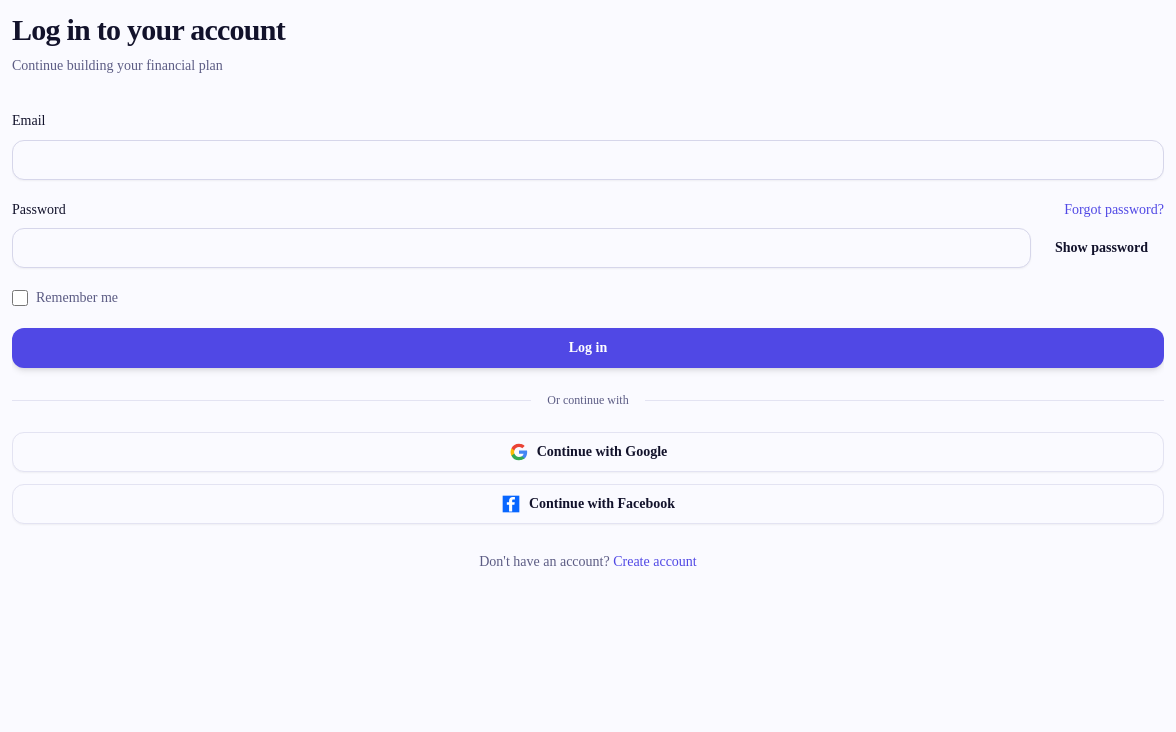
Test: login form › shows a translated credential error returned by NextAuth
Type "owner@example.com" into the field labelled "Email". click: {"x": 588, "y": 160}
box: [12,140,1164,180]
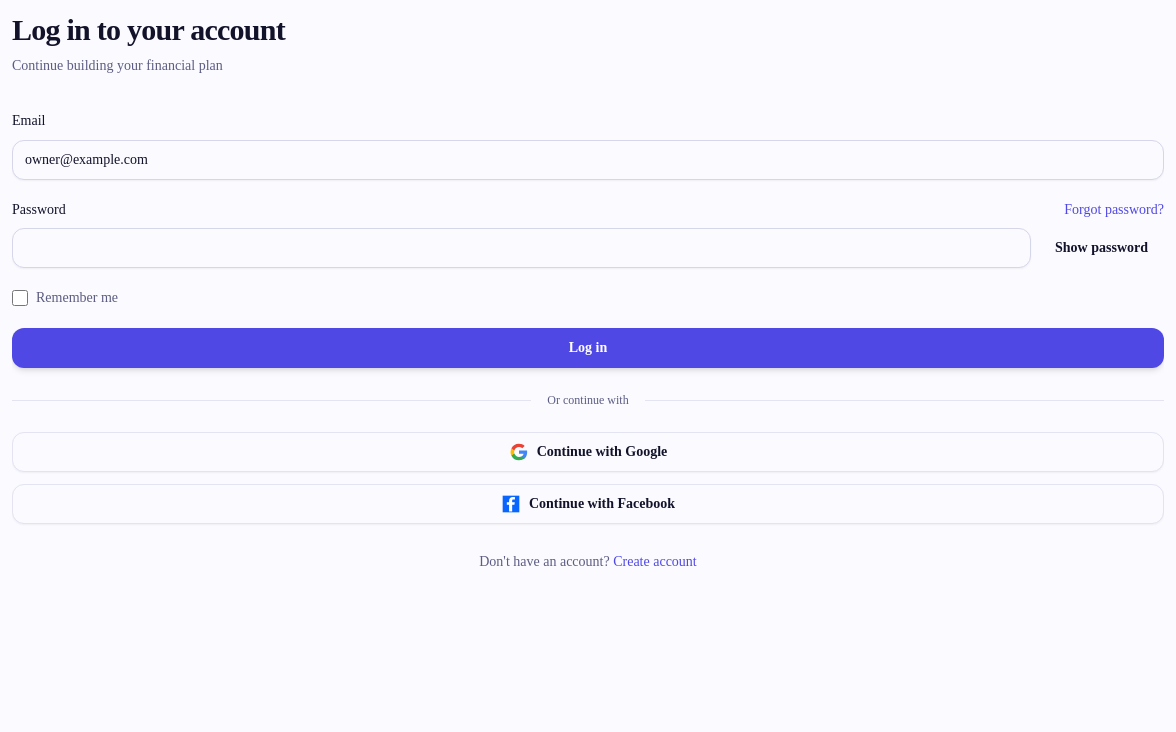
Type "wrong-password" into the password field labelled "Password". click: {"x": 522, "y": 248}
box: [12,228,1031,268]
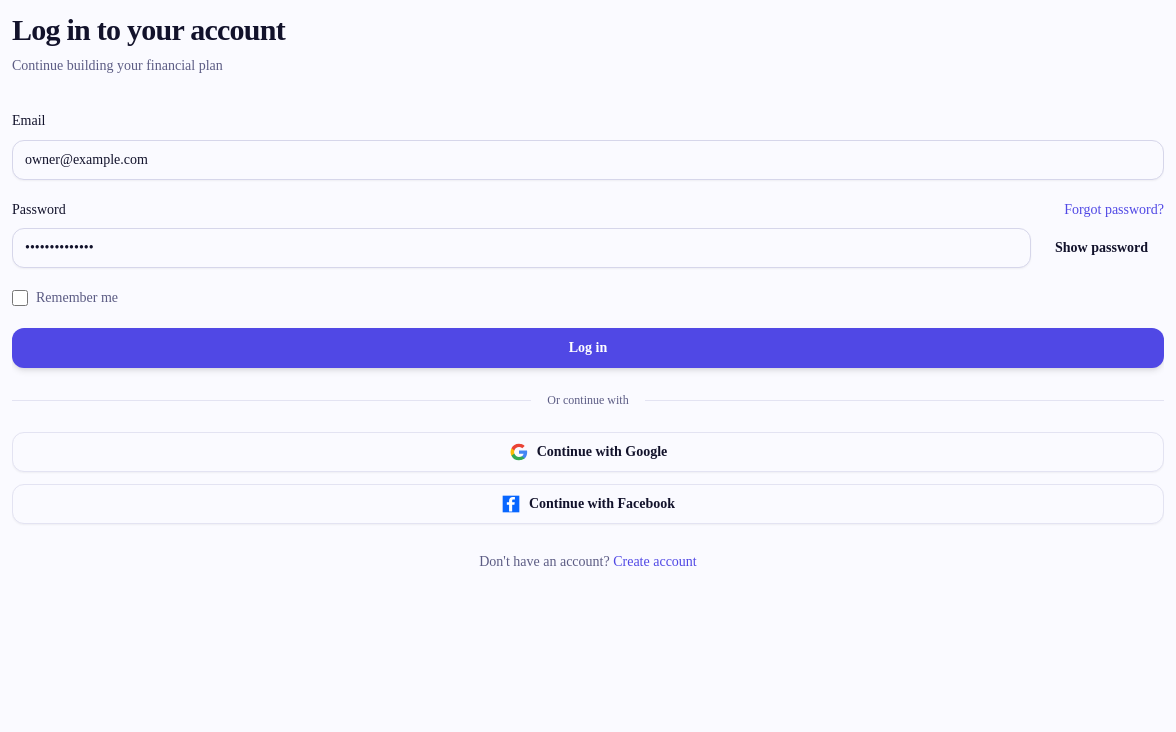
Click the button "Log in". click: {"x": 588, "y": 348}
box: [12,328,1164,368]
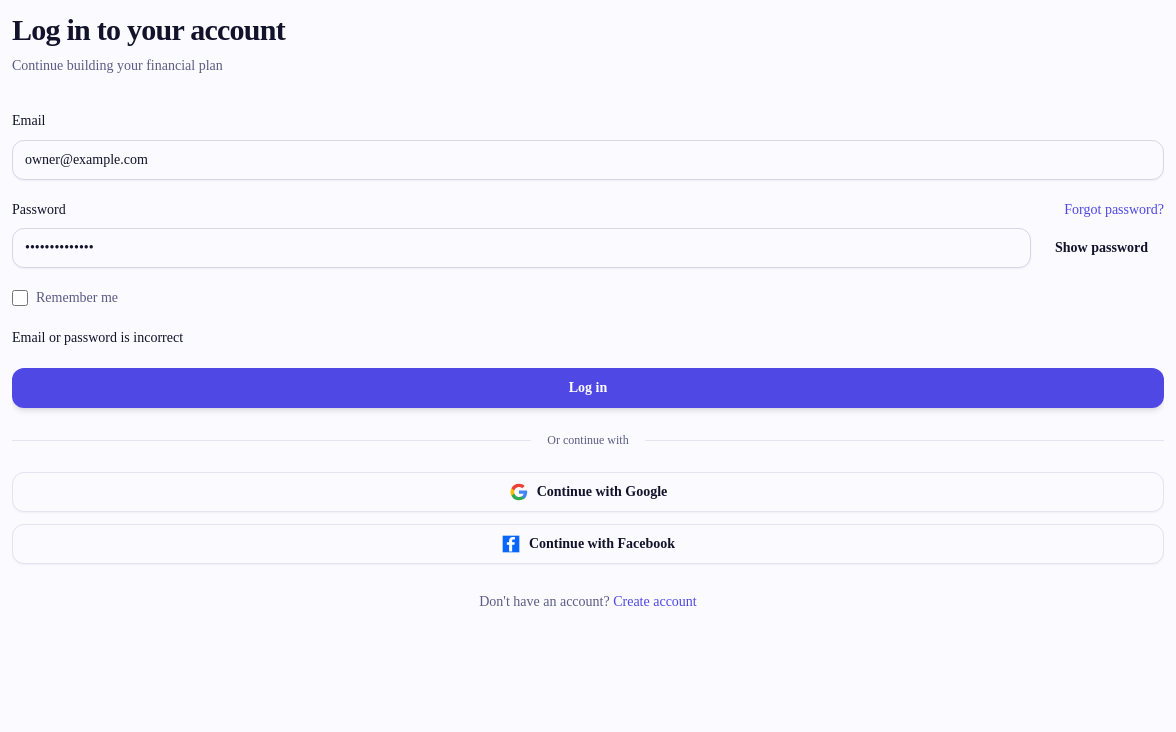
Result: the text "Email or password is incorrect" is shown at [12,330,183,345]
